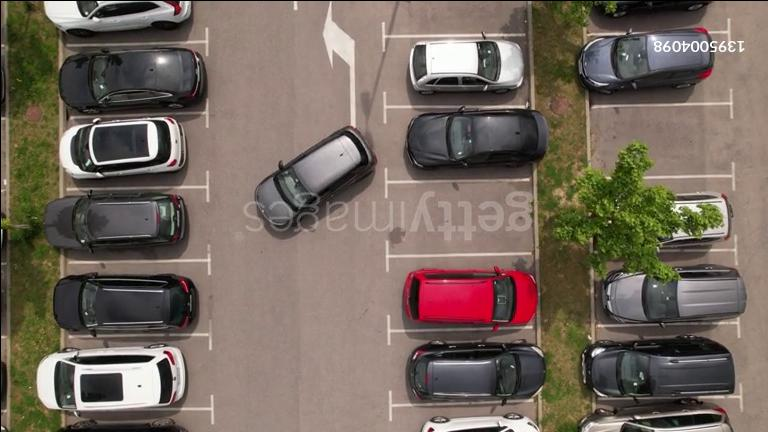car: (256, 128, 374, 230), (39, 345, 184, 412), (586, 337, 733, 396), (60, 49, 202, 110), (599, 266, 743, 323), (407, 110, 546, 167), (47, 194, 185, 250), (409, 342, 542, 400), (61, 118, 185, 179), (404, 271, 534, 323), (409, 40, 523, 94), (613, 28, 715, 86), (80, 276, 185, 329), (48, 2, 192, 34), (579, 405, 728, 432), (657, 194, 731, 245), (578, 37, 625, 89), (420, 413, 538, 432), (53, 277, 90, 330), (54, 418, 185, 432), (600, 1, 712, 17), (0, 61, 13, 112)
